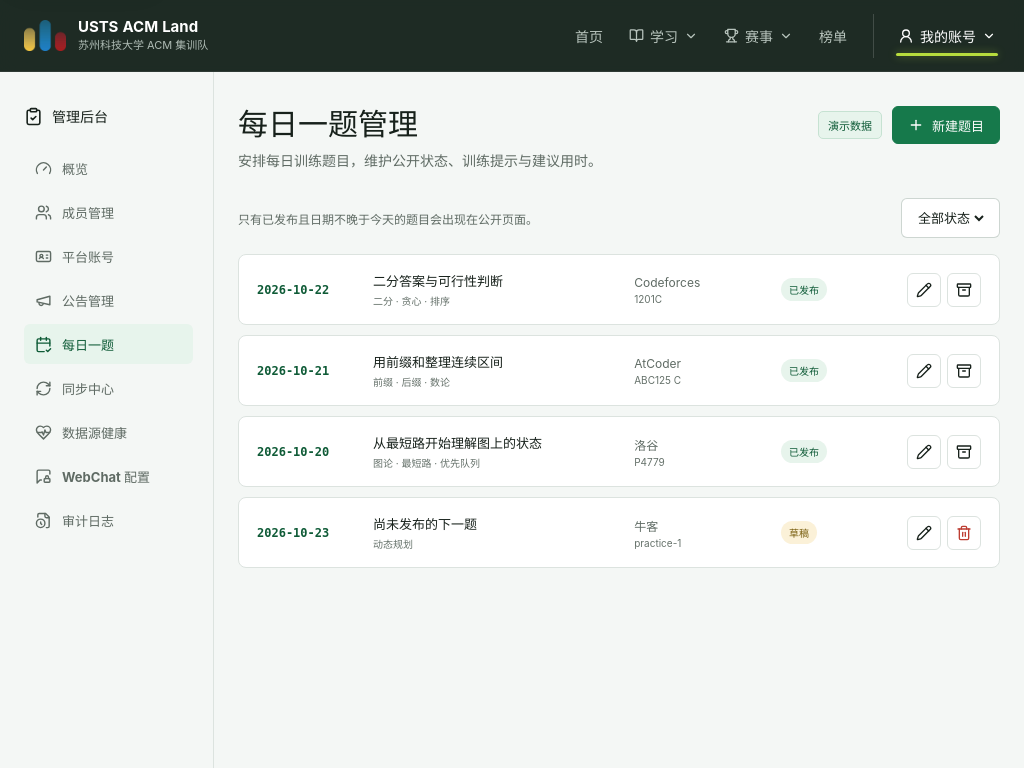
AdminDailyProblemsPage › lists and filters daily problems with state-appropriate actions
Expected: the heading "每日一题管理" is shown, [238, 106, 418, 142]
Expected: the button named "归档题目 二分答案与可行性判断" is shown, [947, 273, 981, 307]
Select "草稿" in the dropdown named "题目状态". click: x=950, y=218
box: [914, 201, 987, 235]
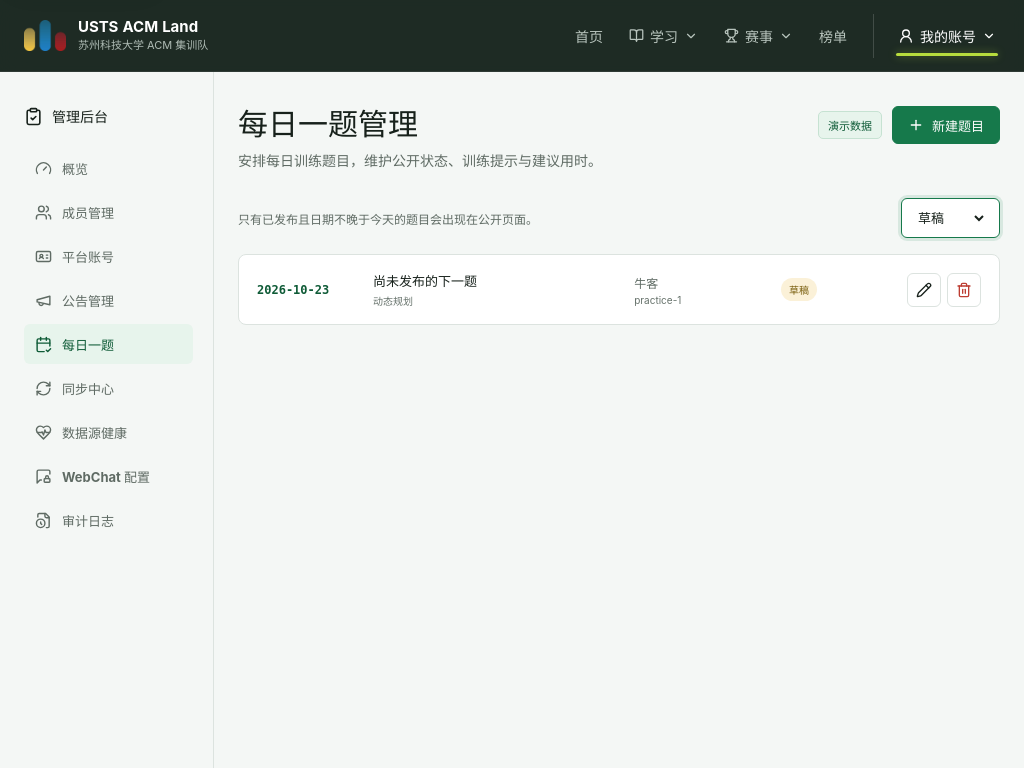
Expected: the text "尚未发布的下一题" is shown, [373, 273, 477, 289]
Now the text "二分答案与可行性判断" is gone
